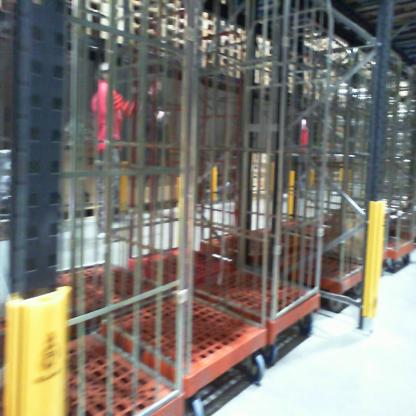pallet: (111, 16, 160, 44), (64, 19, 115, 42), (114, 13, 159, 36), (68, 7, 110, 29), (120, 2, 158, 22), (156, 12, 191, 33), (217, 33, 246, 55), (66, 0, 113, 13), (213, 41, 242, 62), (162, 6, 192, 26), (215, 53, 245, 71), (192, 15, 216, 37), (159, 26, 188, 44), (192, 30, 214, 53), (186, 46, 215, 63), (194, 6, 218, 25), (222, 18, 246, 37)
